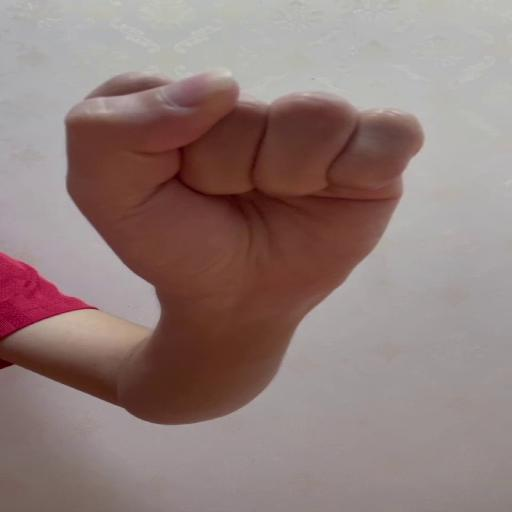fist: (64, 65, 427, 292)
